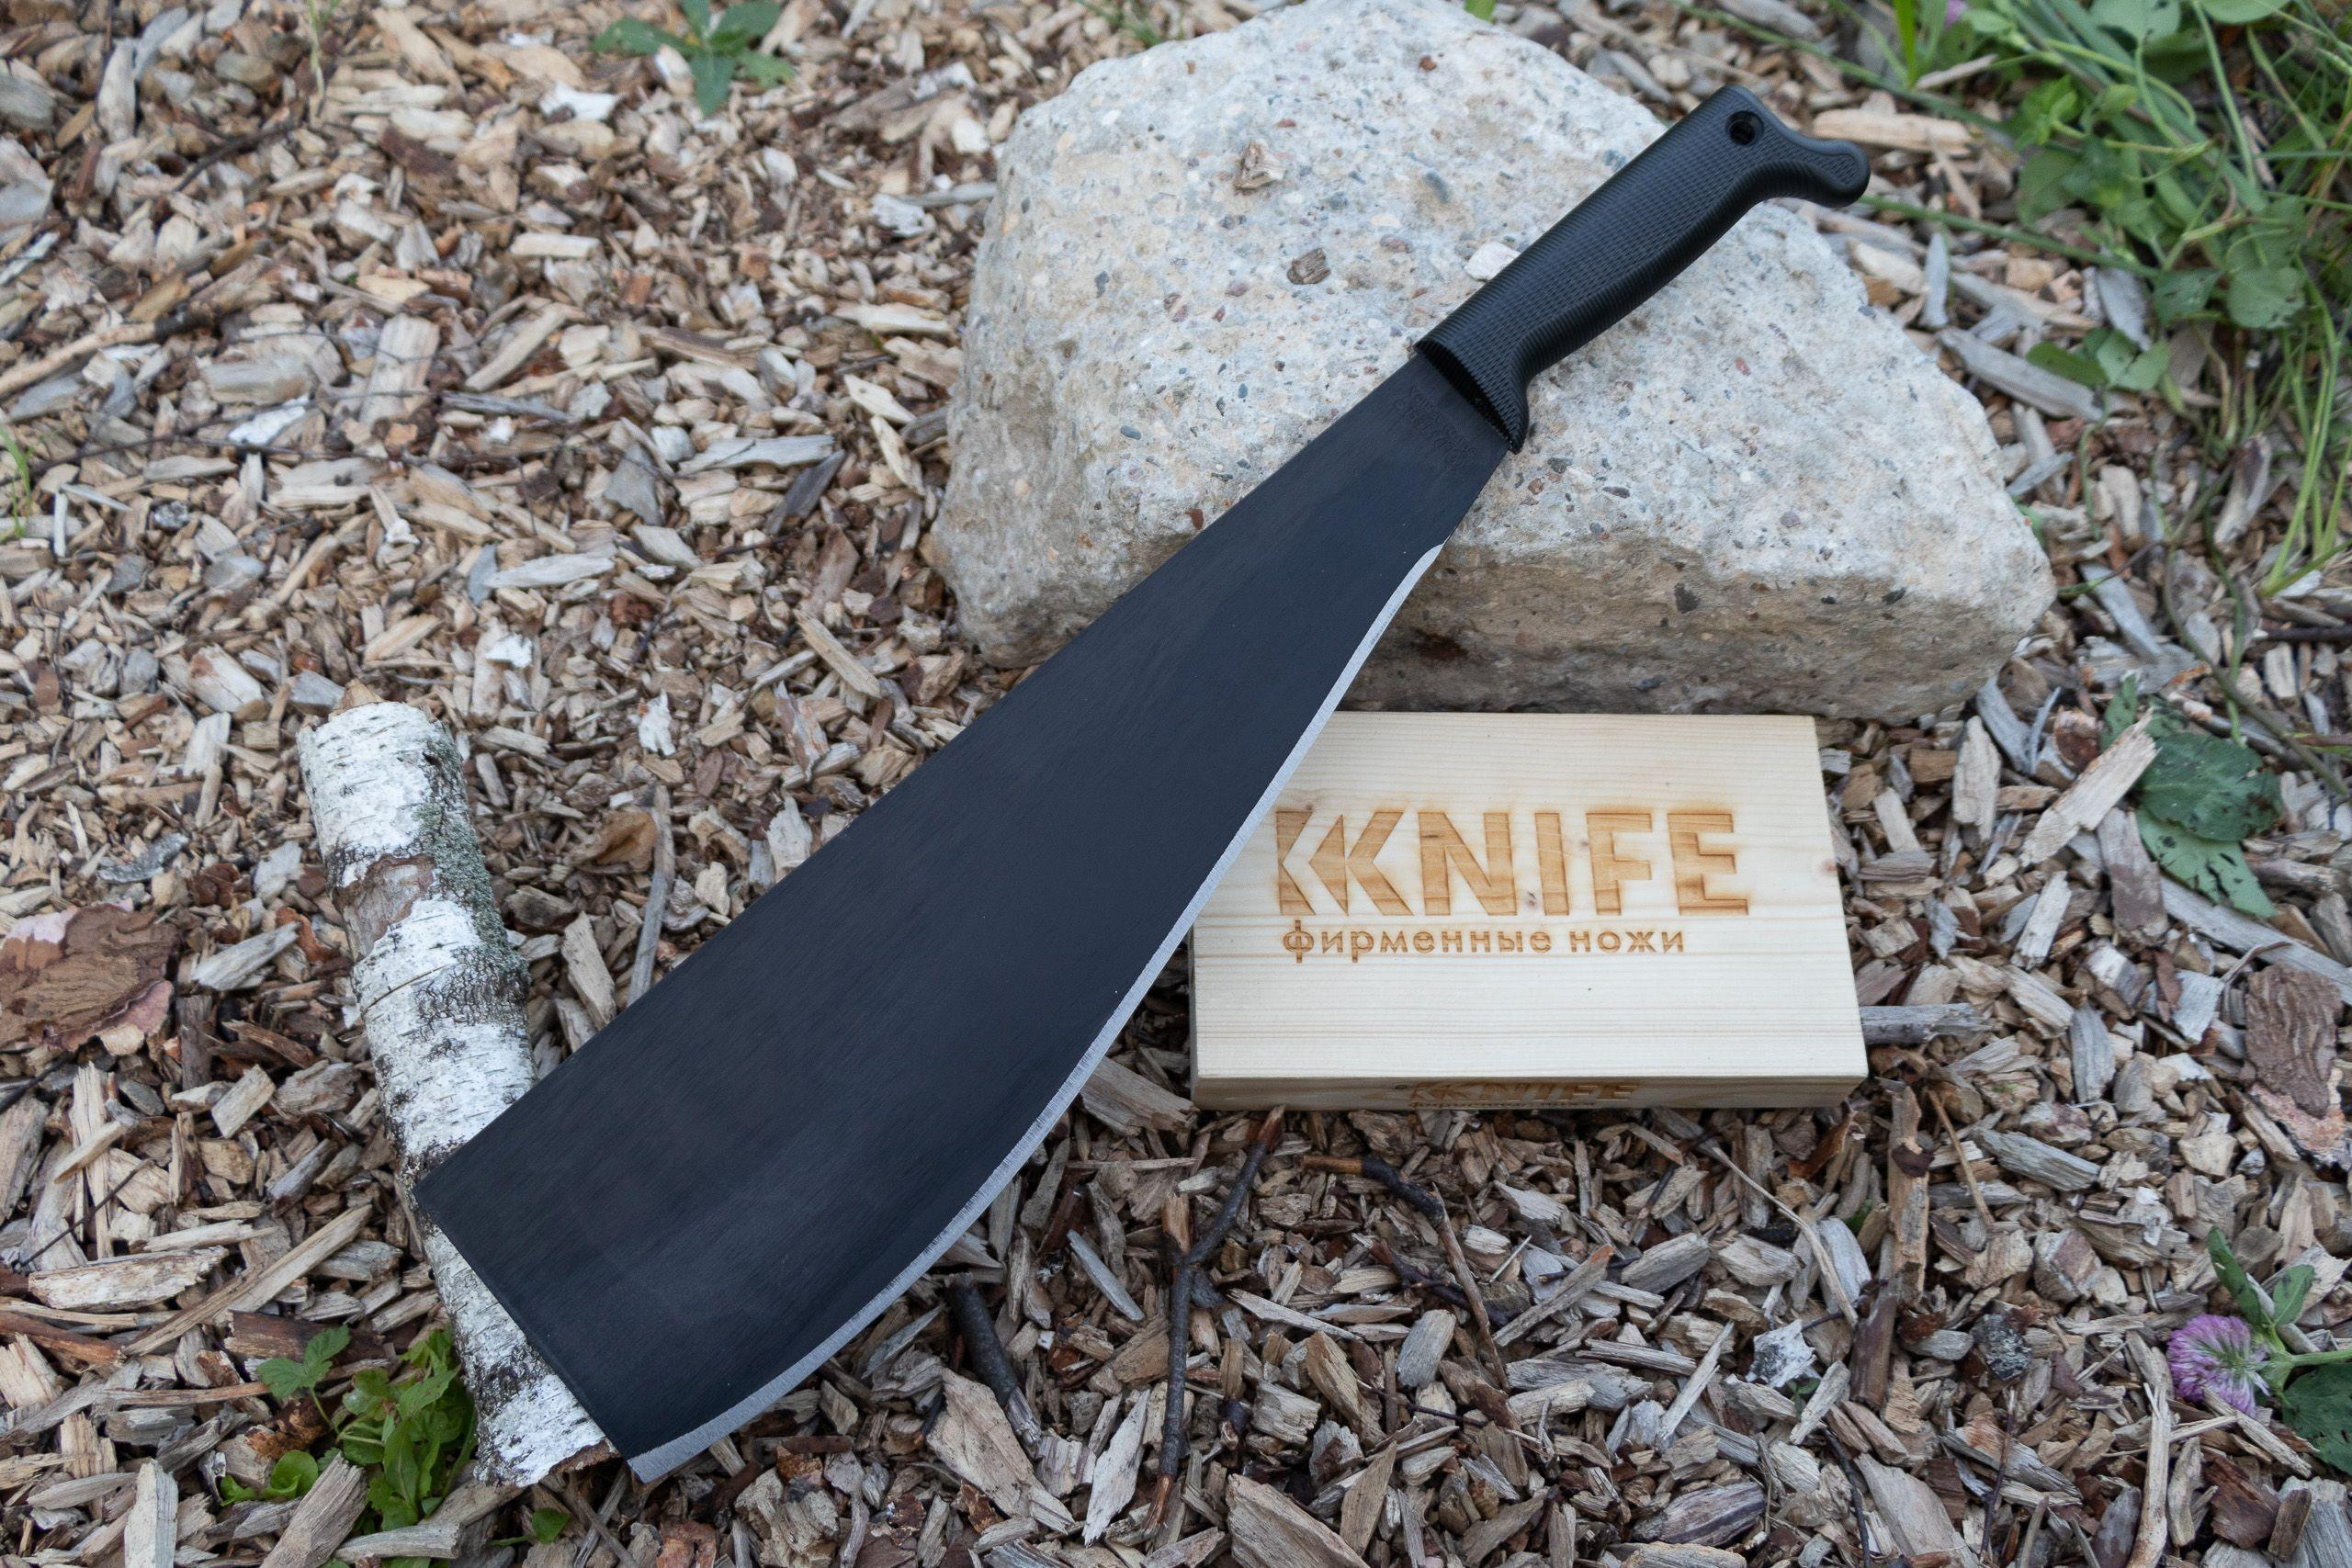facao: (423, 89, 1867, 1472)
